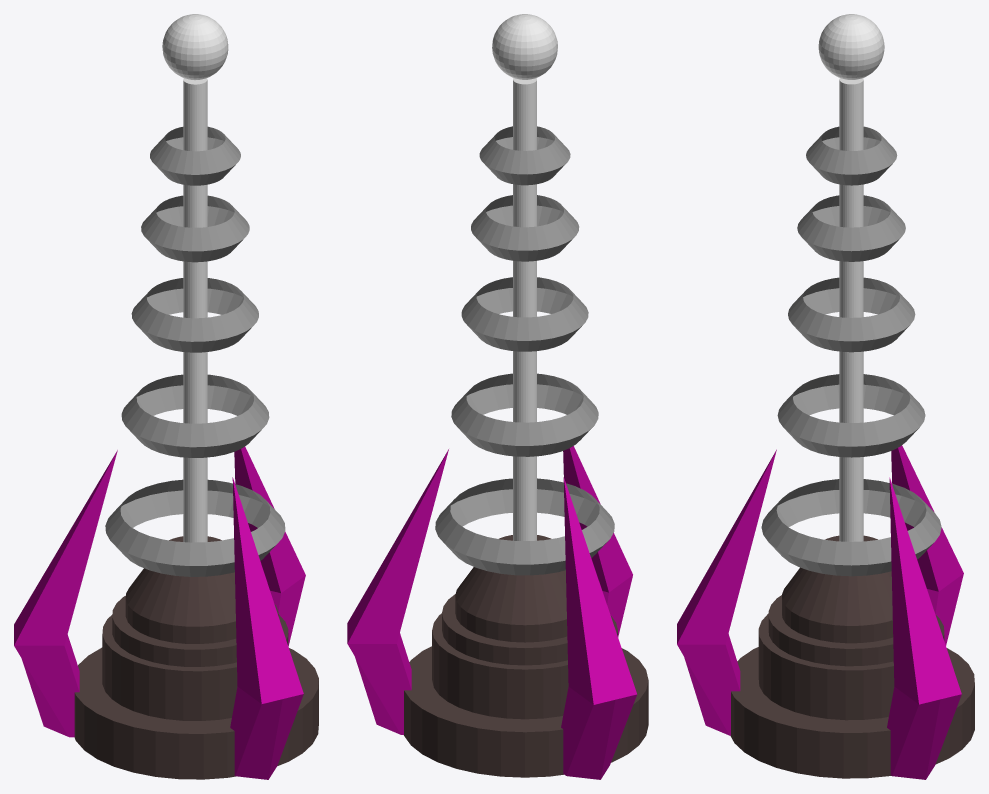
Rendered from space coil.fbx.
The picture shows the model from 3 angles, left to right: view 1: azimuth 30°, elevation 25°; view 2: azimuth 150°, elevation 25°; view 3: azimuth 270°, elevation 25°; orthographic projection.
Parts seen in each view (by area): view 1: Torus.001, Circle, Cube, Cylinder, Sphere; view 2: Torus.001, Circle, Cube, Cylinder, Sphere; view 3: Torus.001, Circle, Cube, Cylinder, Sphere.
Part boxes in pixels (box(x1,y1,x2,y2)): Torus.001: box(105, 126, 285, 576); Circle: box(74, 536, 318, 779); Cube: box(14, 446, 305, 779); Cylinder: box(183, 78, 207, 542); Sphere: box(162, 14, 228, 80); Torus.001: box(435, 126, 614, 575); Circle: box(404, 535, 648, 777); Cube: box(347, 446, 637, 779); Cylinder: box(513, 78, 536, 540); Sphere: box(492, 14, 557, 79); Torus.001: box(761, 126, 941, 576); Circle: box(730, 535, 974, 778); Cube: box(677, 445, 963, 779); Cylinder: box(839, 78, 863, 541); Sphere: box(818, 14, 884, 79).
Size of the model in its own units: 221 by 516 by 196.
